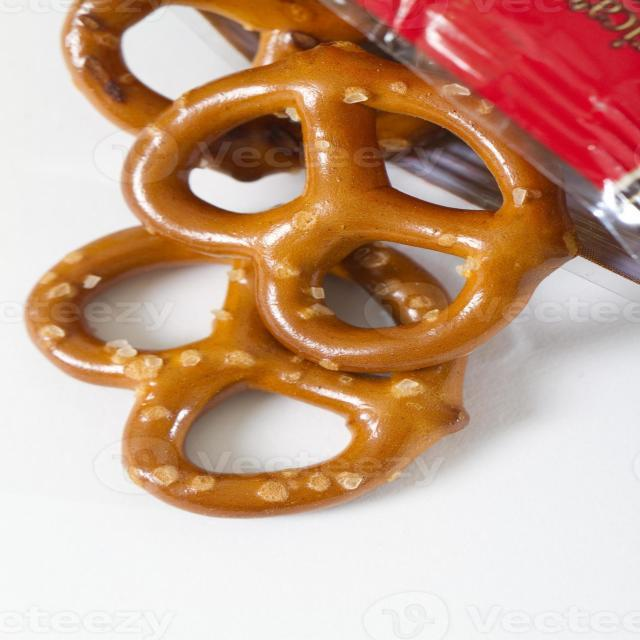Salatini: (22, 3, 582, 523)
